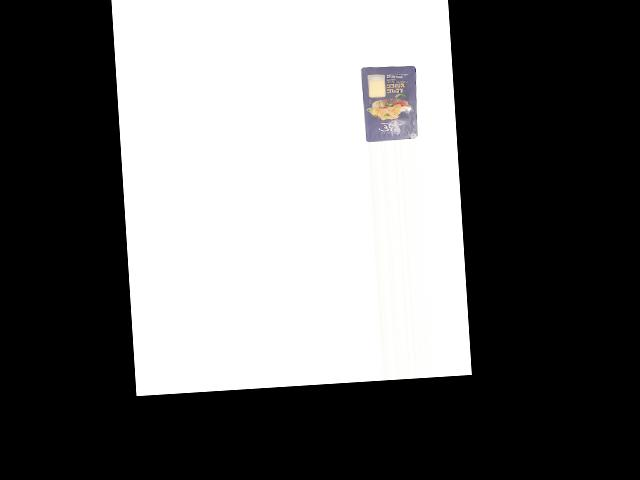cheese: (361, 64, 422, 143)
